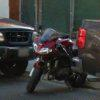Motorcycle: (22, 20, 97, 100)
